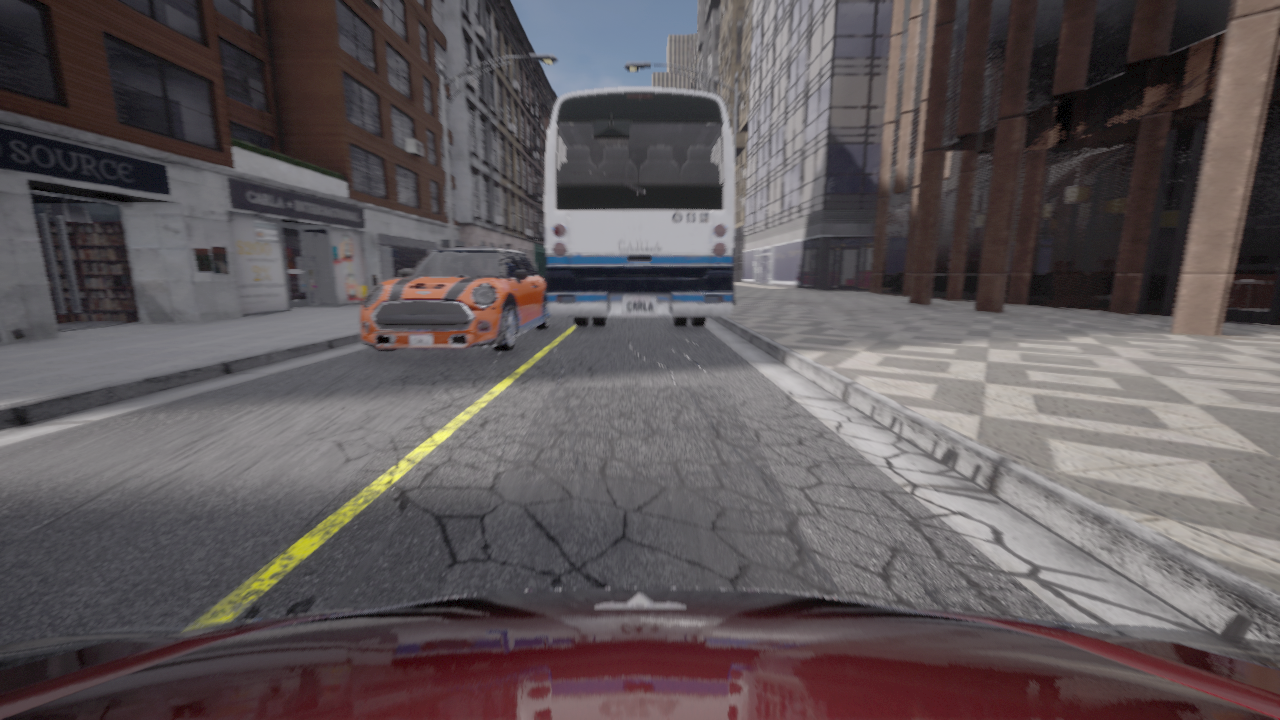cyclist: (0, 588, 1279, 719), (545, 87, 733, 327), (359, 245, 550, 351)
